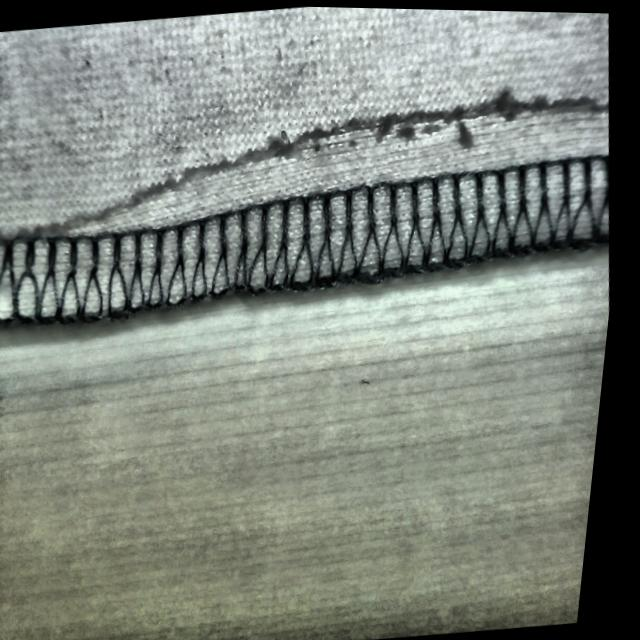seam: (40, 52, 631, 330)
